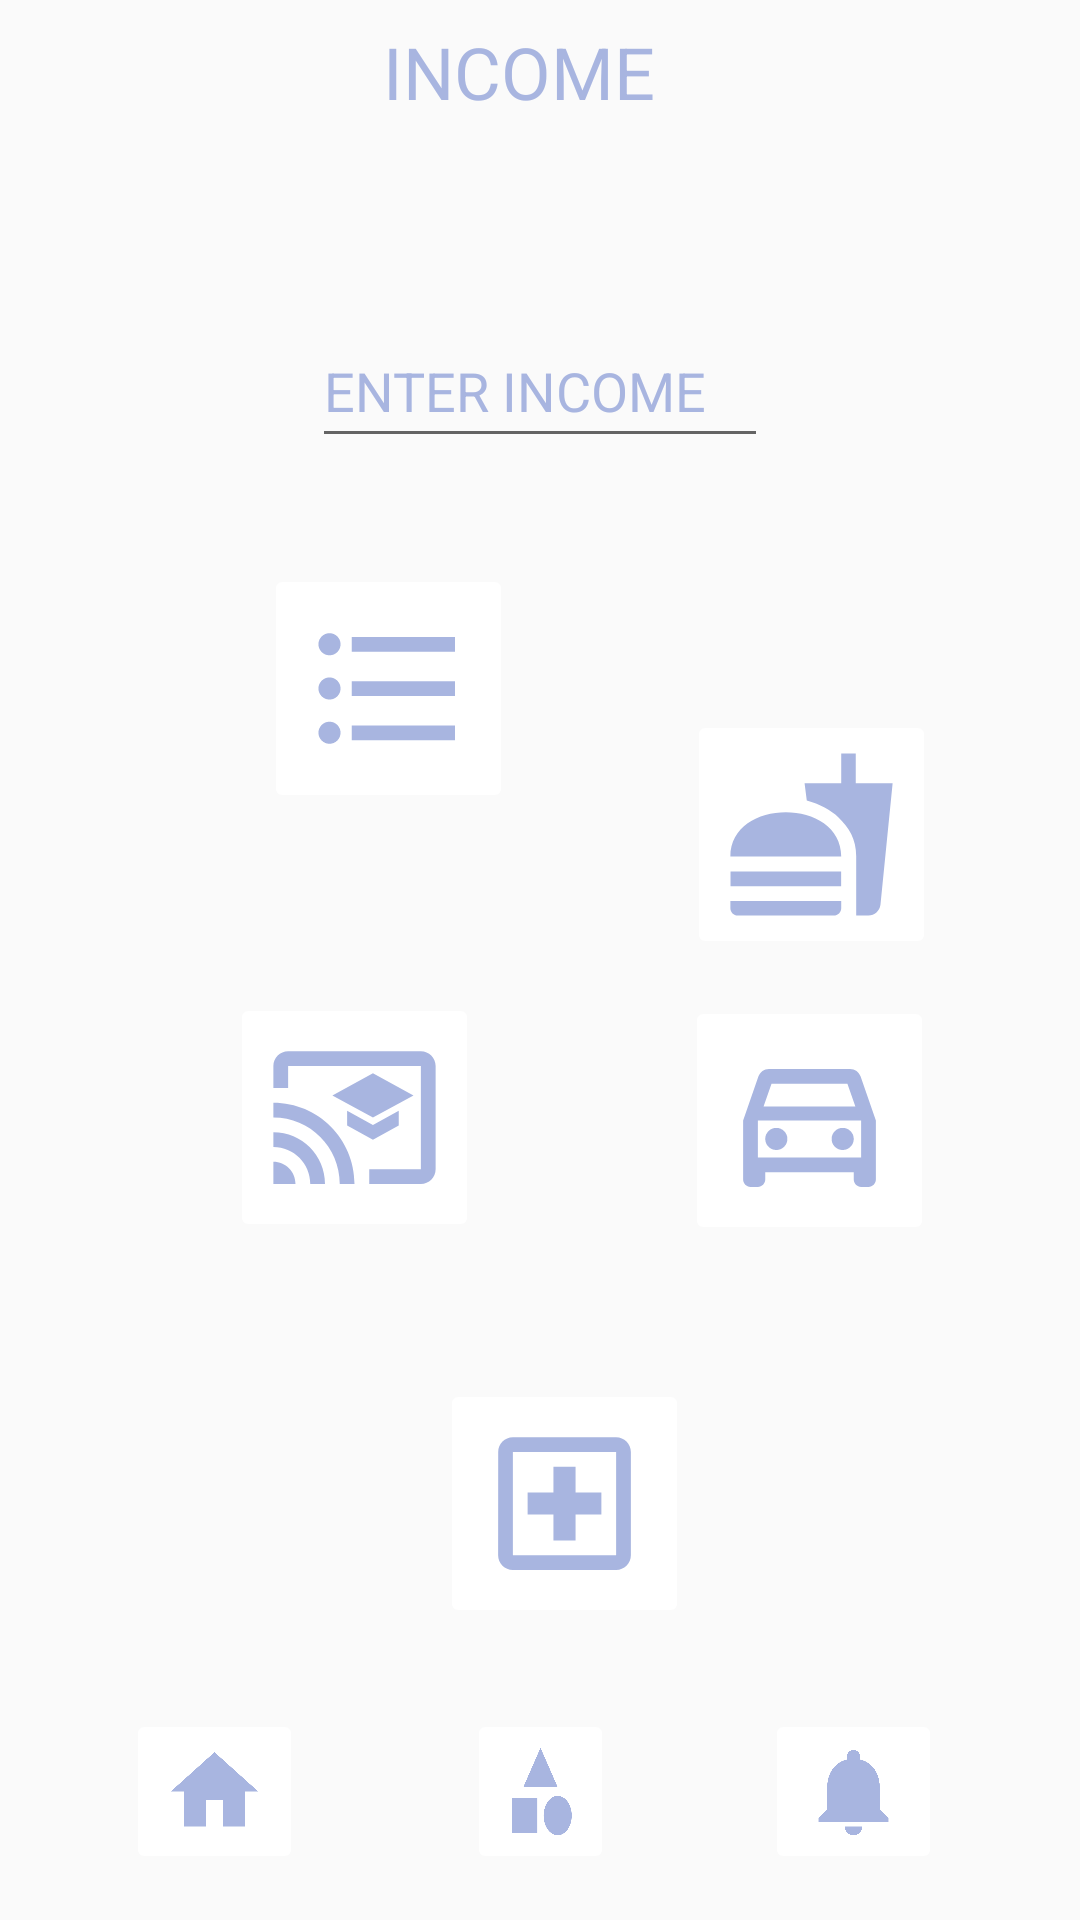

Named icons in this screenshot (1080px x 1920px) and their centers, [x,y]:
home: [214,1789]
hospital: [564,1503]
notifications: [853,1792]
